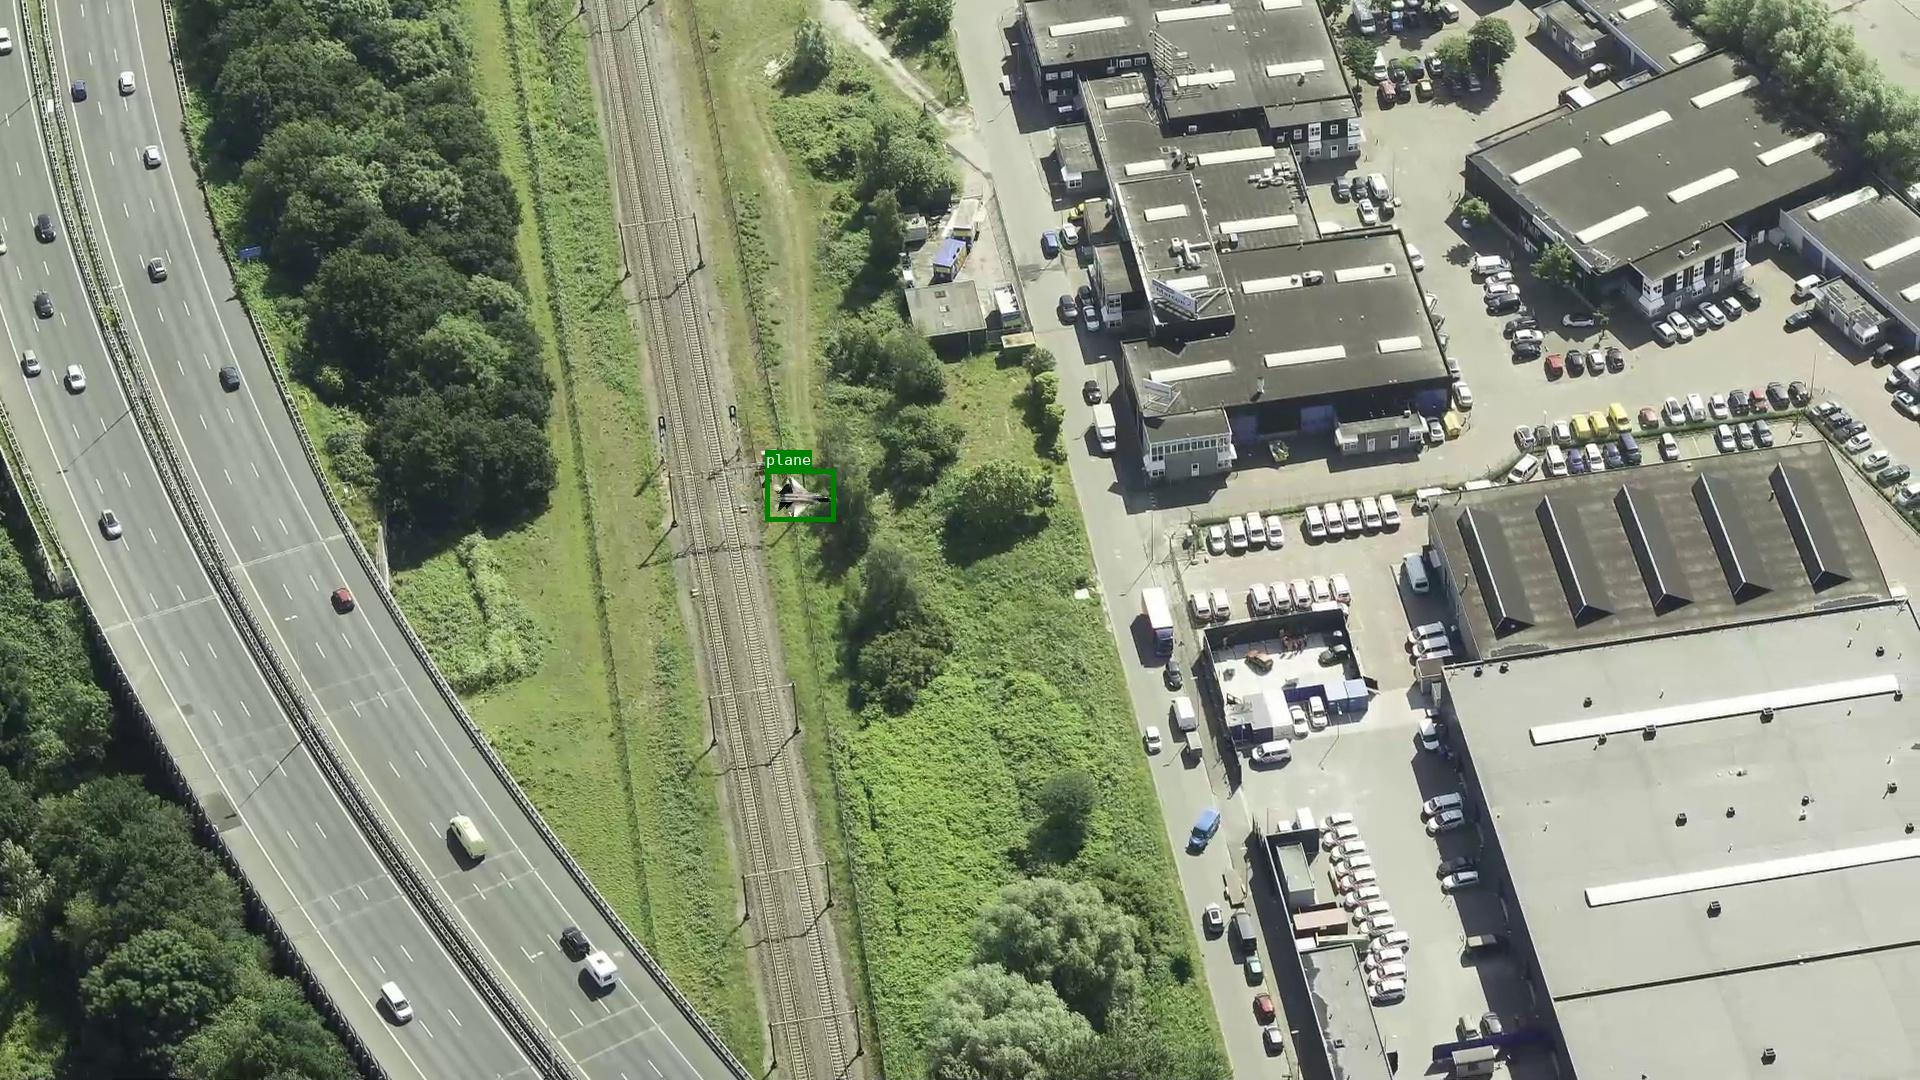plane: (765, 469, 835, 521)
